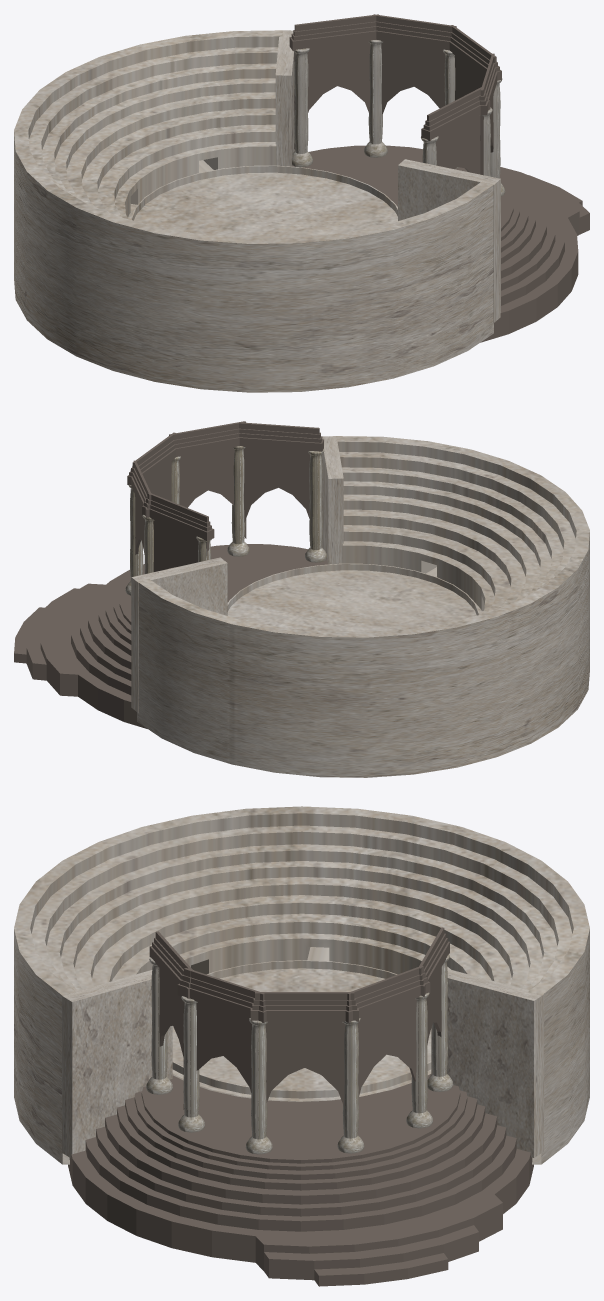
The model's file is Arena2.fbx.
3 renders of one model, top to bottom at view 1: azimuth 30°, elevation 25°; view 2: azimuth 150°, elevation 25°; view 3: azimuth 270°, elevation 25°, orthographic. The views are drawn at different scales.
Visible parts, largest first — view 1: Cylinder, Cube.005, Cylinder.001, Cube, Cylinder.002; view 2: Cylinder, Cube.005, Cylinder.001, Cube, Cylinder.002; view 3: Cylinder, Cylinder.001, Cube, Cube.005, Cylinder.002.
Boxes of the visible parts, <box> form: Cylinder: <box>14,30,493,392</box>; Cube.005: <box>289,14,501,175</box>; Cylinder.001: <box>292,145,589,342</box>; Cube: <box>275,30,500,322</box>; Cylinder.002: <box>292,40,505,196</box>; Cylinder: <box>137,436,589,777</box>; Cube.005: <box>127,421,323,571</box>; Cylinder.001: <box>14,544,327,728</box>; Cube: <box>131,436,343,713</box>; Cylinder.002: <box>125,446,326,595</box>; Cylinder: <box>14,806,589,1164</box>; Cylinder.001: <box>68,1074,533,1286</box>; Cube: <box>62,969,543,1158</box>; Cube.005: <box>149,927,449,1109</box>; Cylinder.002: <box>146,954,453,1154</box>.
Size of the model in its own units: 1546 by 550 by 1250.
4 materials, 2 textured.
